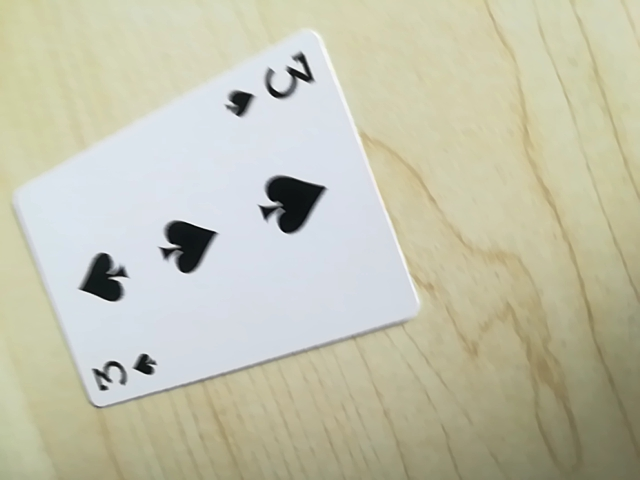ht 3: (211, 49, 321, 123), (85, 345, 162, 401)
